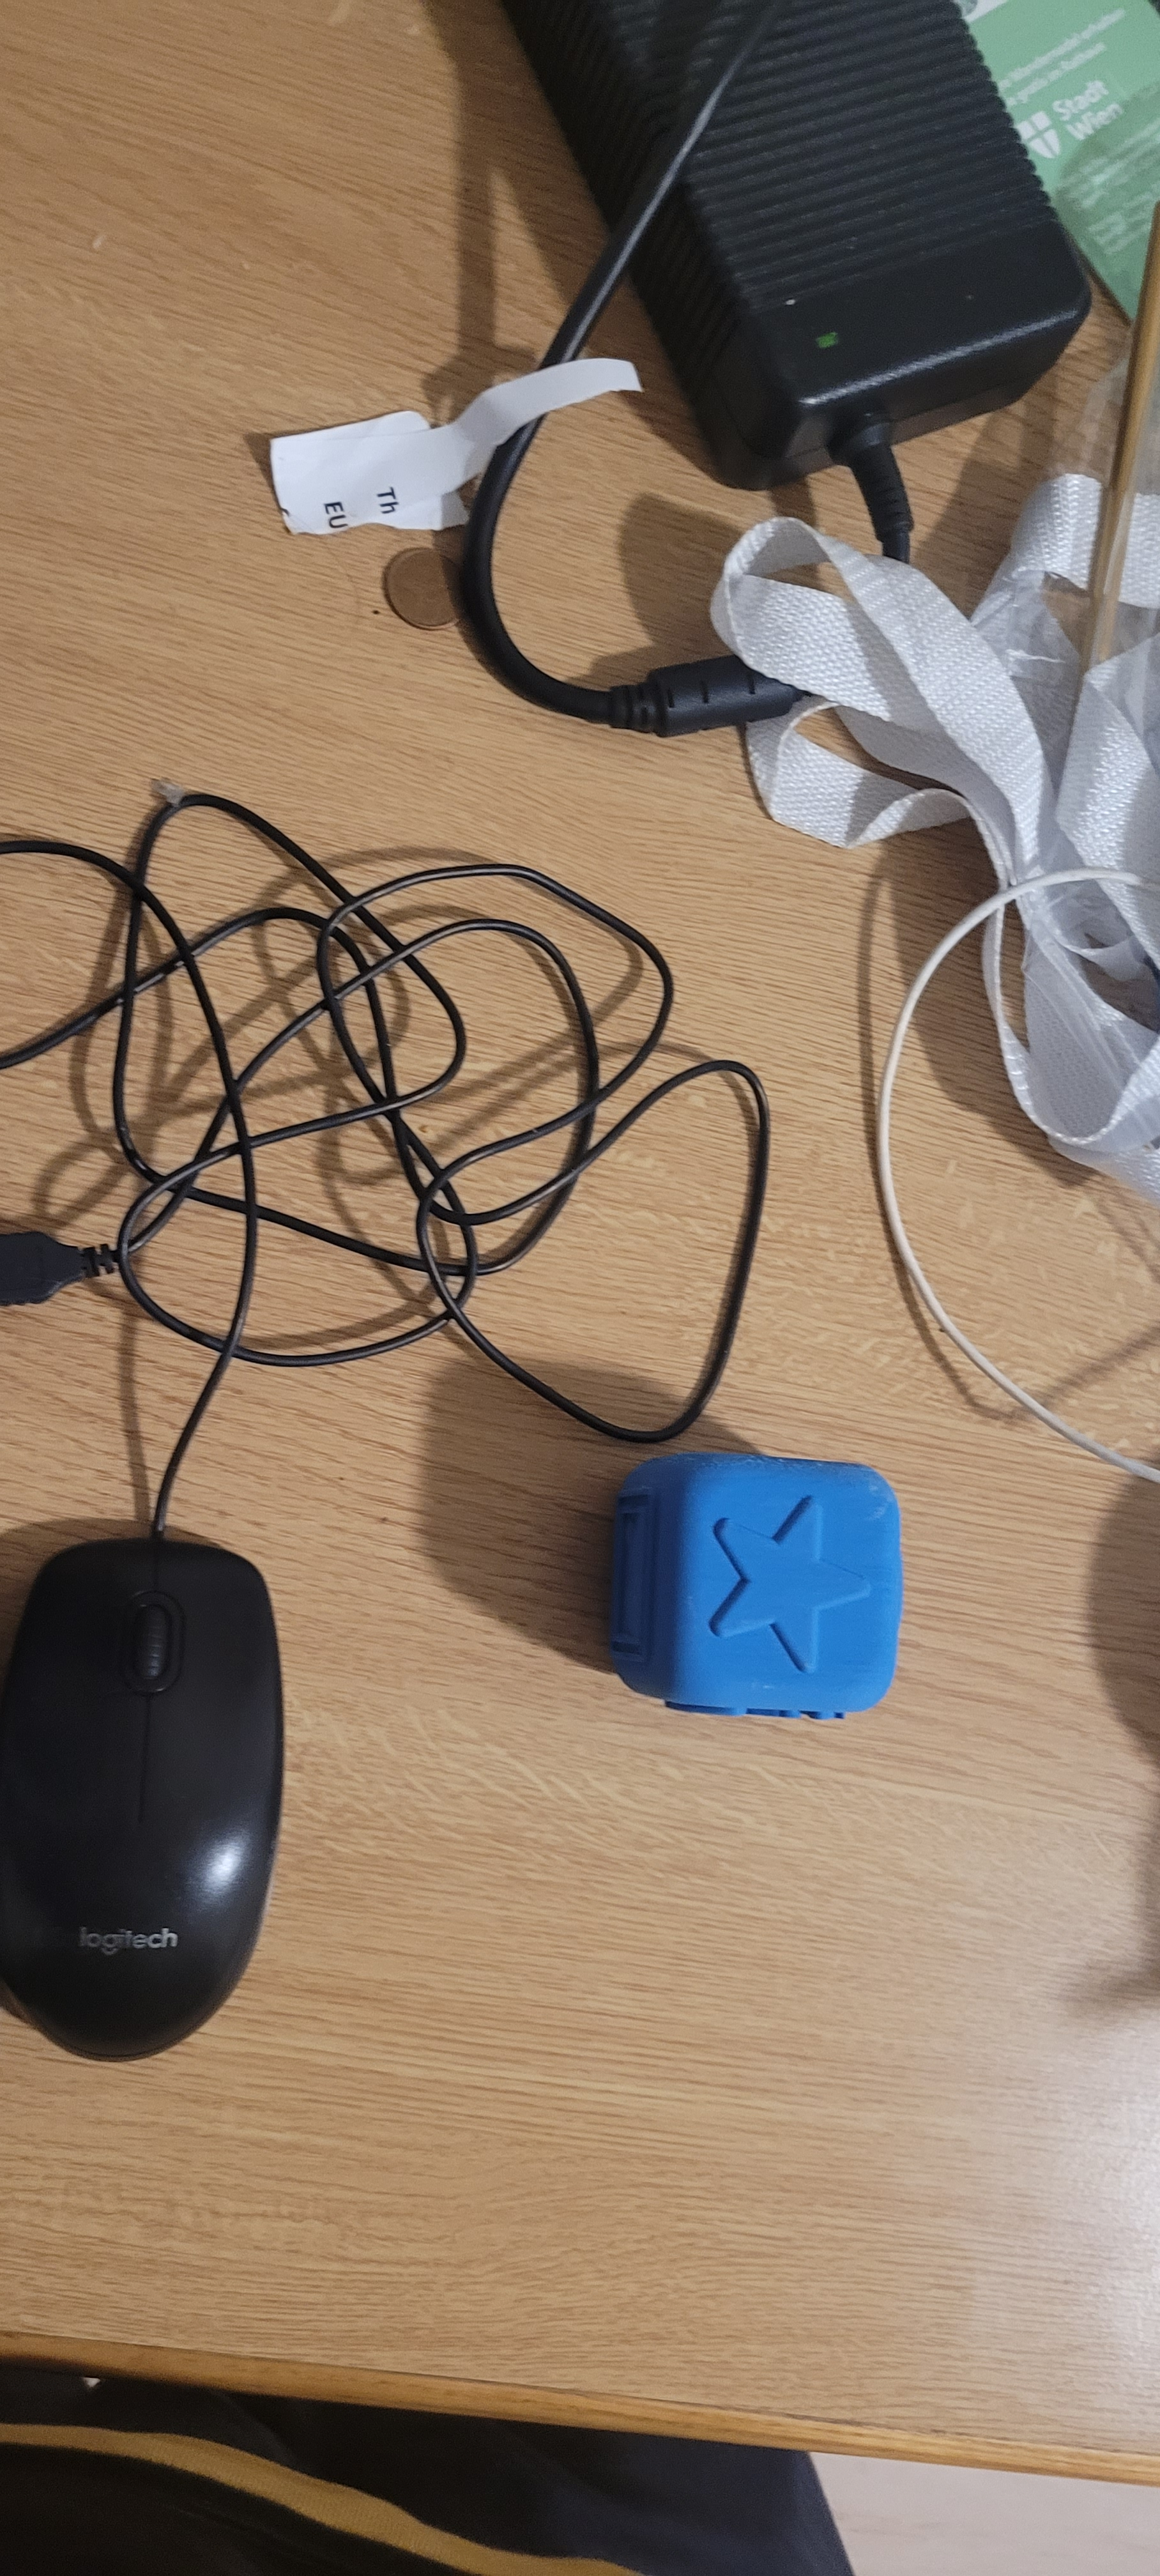Star: (698, 1477, 920, 1705)
